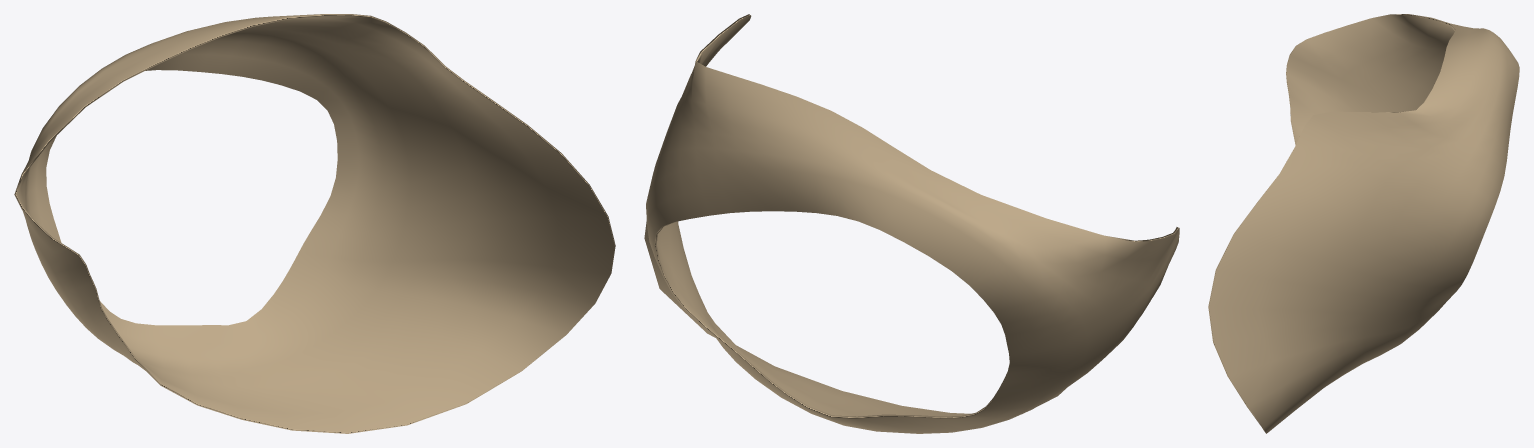
3 views of the same model, side by side, from view 1: azimuth 30°, elevation 25°; view 2: azimuth 150°, elevation 25°; view 3: azimuth 270°, elevation 25° (orthographic). The views are drawn at different scales.
Visible parts, largest first — view 1: 左侧颞下颌关节囊; view 2: 左侧颞下颌关节囊; view 3: 左侧颞下颌关节囊.
Boxes of the visible parts, left/top/right/bottom form: 左侧颞下颌关节囊: left=14, top=14, right=615, bottom=433; 左侧颞下颌关节囊: left=644, top=14, right=1179, bottom=433; 左侧颞下颌关节囊: left=1208, top=14, right=1519, bottom=433.
Size of the model in its own units: 0.0337 by 0.0216 by 0.019.
